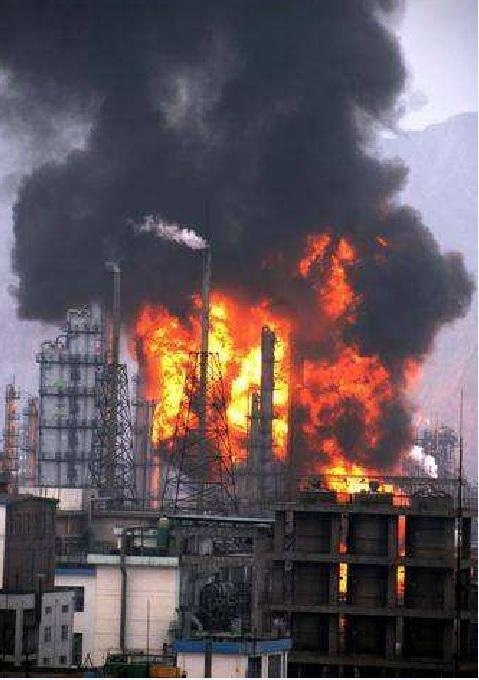fire: (136, 236, 432, 494), (335, 545, 349, 599)
